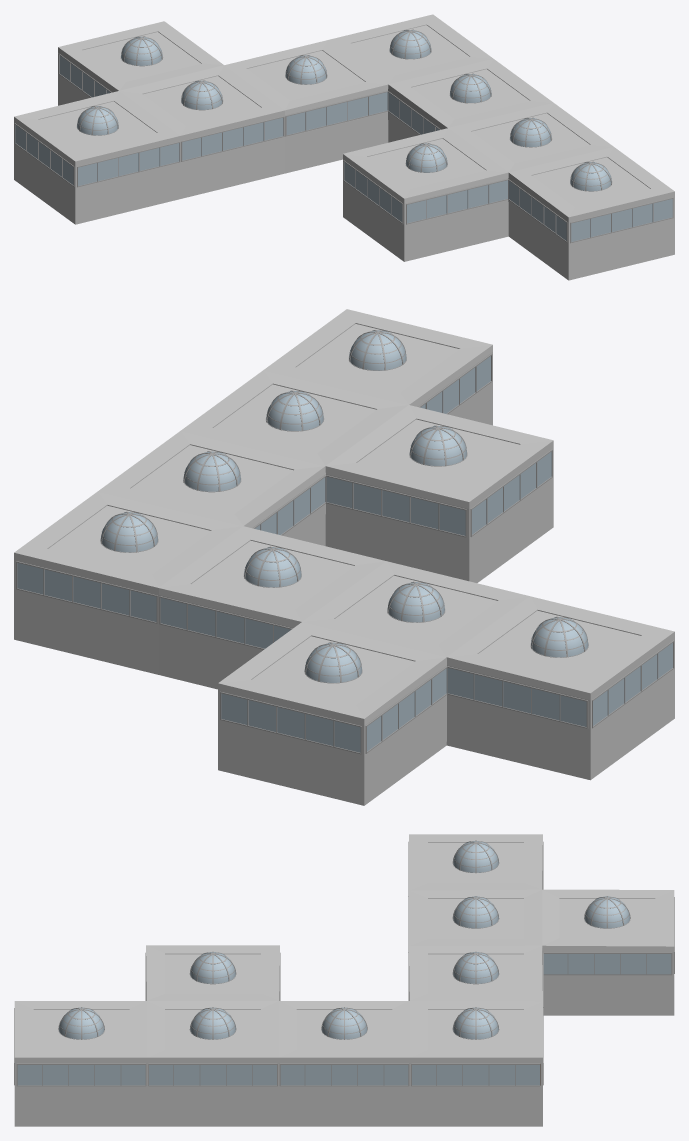
File: wall.fbx
3 views of the same model, one above another, from view 1: azimuth 30°, elevation 25°; view 2: azimuth 150°, elevation 25°; view 3: azimuth 270°, elevation 25° (orthographic). The views are drawn at different scales.
Parts seen in each view (by area): view 1: wall_2, ceiling, windows, sphere.007, sphere, sphere.005, sphere.004, sphere.001, sphere.008, sphere.006, sphere.003, sphere.002; view 2: wall_2, ceiling, windows, sphere.008, sphere.007, sphere.001, sphere.006, sphere.005, sphere.002, sphere.004, sphere.003, sphere; view 3: wall_2, ceiling, windows, sphere.006, sphere.004, sphere.001, sphere.008, sphere.007, sphere, sphere.003, sphere.002, sphere.005.
Boxes of the visible parts, box(x1,y1,x2,y2) form: wall_2: box(14, 14, 674, 280); ceiling: box(39, 25, 649, 207); windows: box(14, 54, 673, 243); sphere.007: box(120, 36, 162, 66); sphere: box(570, 161, 612, 191); sphere.005: box(76, 106, 118, 135); sphere.004: box(181, 80, 223, 110); sphere.001: box(509, 117, 552, 147); sphere.008: box(449, 73, 491, 103); sphere.006: box(389, 29, 431, 59); sphere.003: box(285, 55, 327, 84); sphere.002: box(405, 143, 447, 172); wall_2: box(14, 309, 674, 805); ceiling: box(48, 324, 640, 704); windows: box(16, 353, 674, 754); sphere.008: box(183, 451, 241, 492); sphere.007: box(304, 642, 362, 683); sphere.001: box(265, 390, 324, 431); sphere.006: box(100, 511, 158, 552); sphere.005: box(530, 616, 588, 657); sphere.002: box(409, 425, 467, 466); sphere.004: box(387, 581, 445, 622); sphere.003: box(243, 546, 301, 587); sphere: box(348, 330, 406, 370); wall_2: box(14, 834, 674, 1126); ceiling: box(33, 843, 655, 1049); windows: box(14, 841, 674, 1086); sphere.006: box(452, 1007, 499, 1039); sphere.004: box(452, 896, 499, 928); sphere.001: box(189, 1007, 236, 1039); sphere.008: box(321, 1007, 367, 1039); sphere.007: box(584, 896, 630, 928); sphere: box(58, 1007, 104, 1039); sphere.003: box(452, 951, 499, 984); sphere.002: box(189, 951, 236, 984); sphere.005: box(452, 840, 499, 873).
Bounding box in the file's own units: 40.29 × 7.53 × 50.29.
